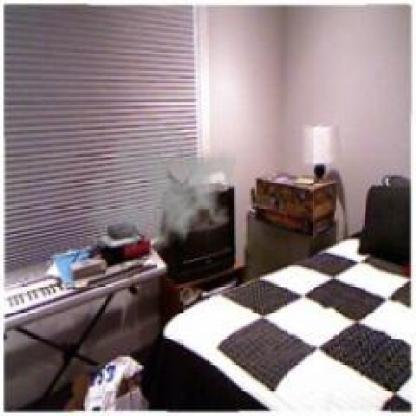Smoke: (83, 112, 238, 266)
